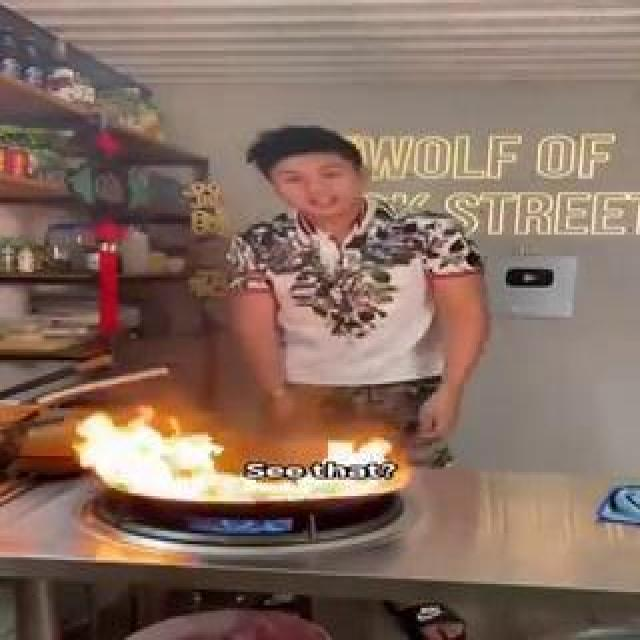Fire: (249, 120, 328, 446)
